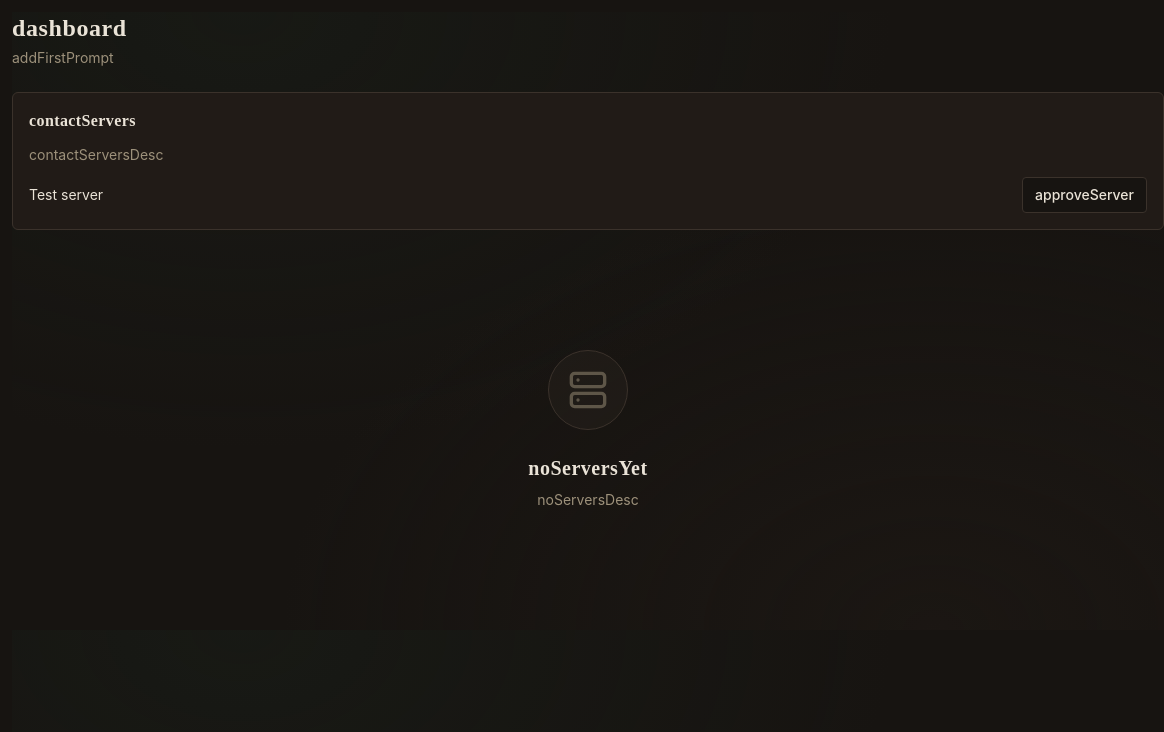
Test case: dashboard approval › uses the master-list ID and shows why contact verification failed
Click the button "approveServer" at (1085, 195), box 1022,177 -> 1147,213
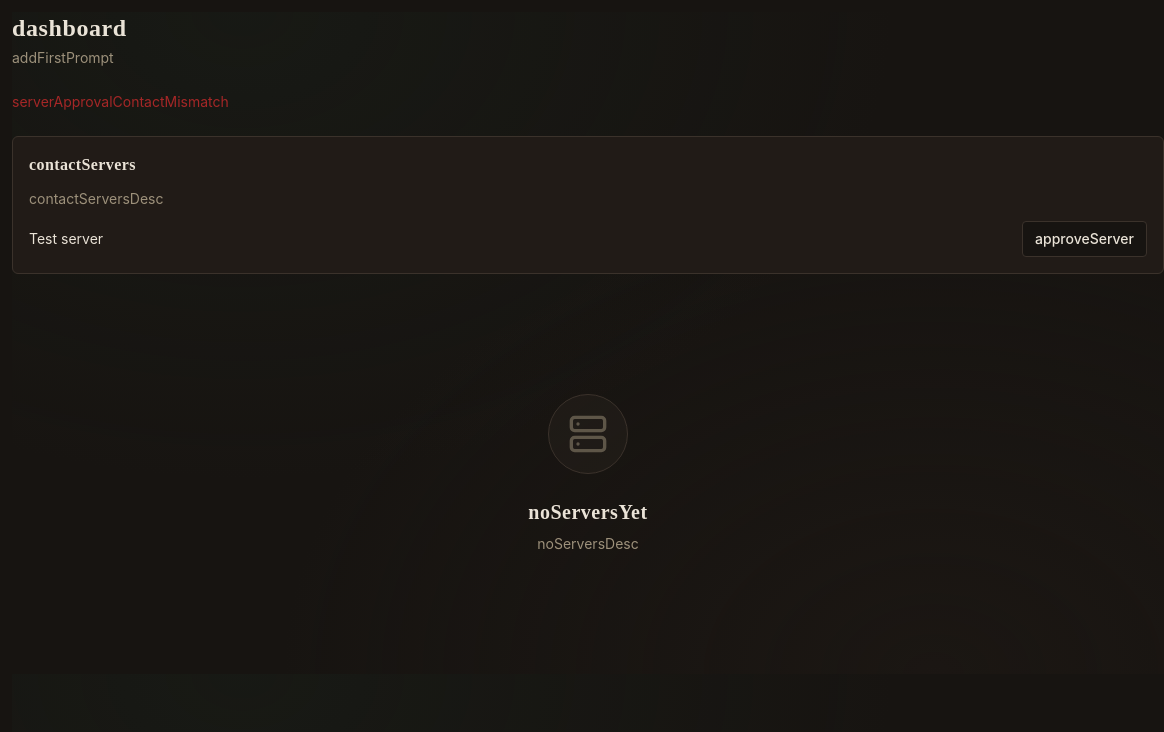
Check: the message reads "serverApprovalContactMismatch", box 12,93 -> 229,110
